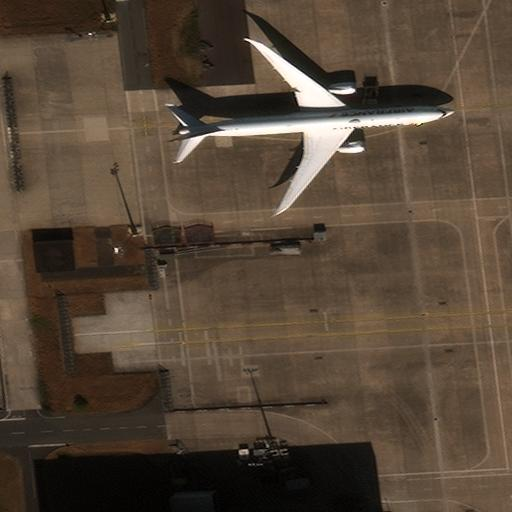Large Civil Transport: (169, 43, 453, 208)
